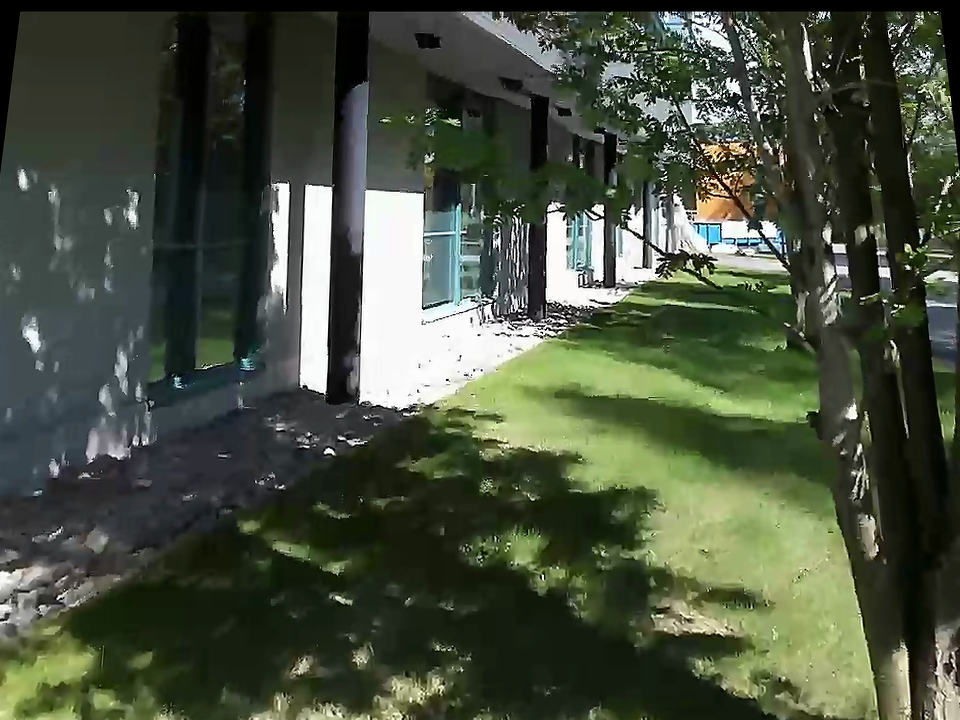branch: (625, 228, 739, 320), (715, 272, 808, 355), (588, 180, 653, 270)
trunk: (765, 31, 956, 392), (801, 324, 956, 708)
